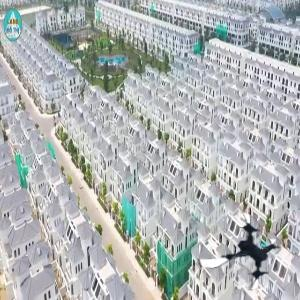drone: (197, 209, 284, 296)
